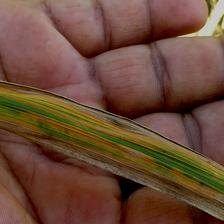2 BacterialBlight: (7, 81, 210, 200)
